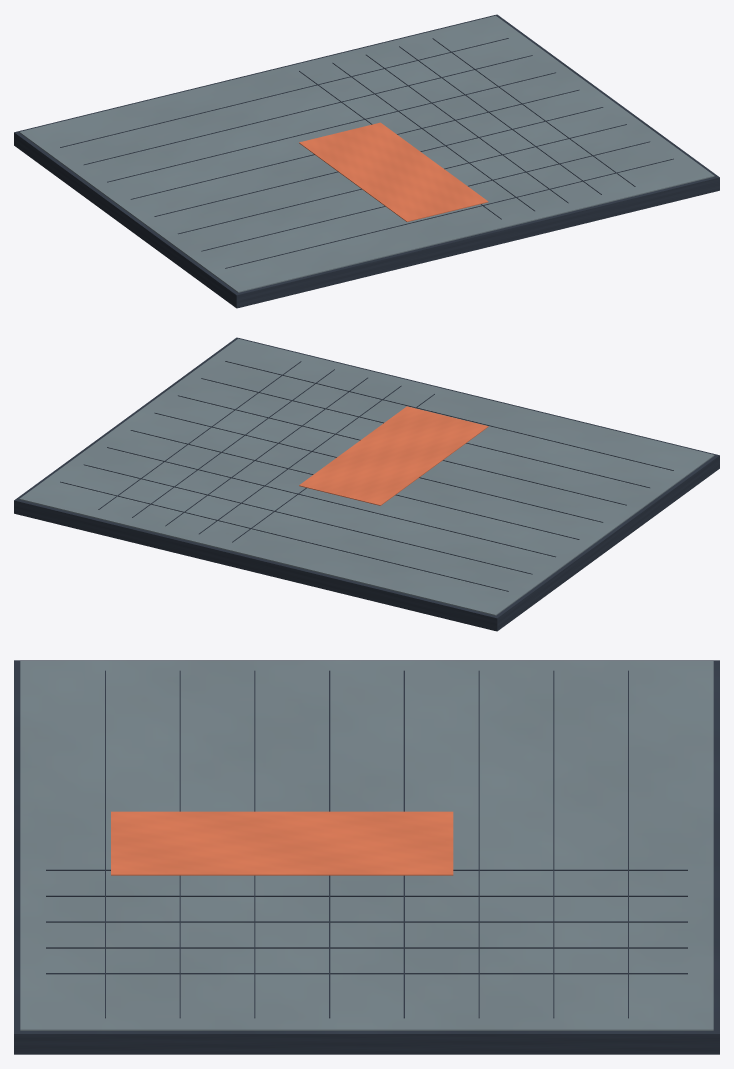
Rendered from atlas100-s026-a07.lod2.glb.
The picture shows the model from 3 angles, top to bottom: view 1: azimuth 30°, elevation 25°; view 2: azimuth 150°, elevation 25°; view 3: azimuth 270°, elevation 25°; orthographic projection. The views are drawn at different scales.
Parts seen in each view (by area): view 1: atlas100-s026-a07:part-001, atlas100-s026-a07:part-000, atlas100-s026-a07:part-021, atlas100-s026-a07:part-014, atlas100-s026-a07:part-013, atlas100-s026-a07:part-015, atlas100-s026-a07:part-020, atlas100-s026-a07:part-017, atlas100-s026-a07:part-019, atlas100-s026-a07:part-016, atlas100-s026-a07:part-018; view 2: atlas100-s026-a07:part-001, atlas100-s026-a07:part-000, atlas100-s026-a07:part-021, atlas100-s026-a07:part-014, atlas100-s026-a07:part-013, atlas100-s026-a07:part-020, atlas100-s026-a07:part-015, atlas100-s026-a07:part-016, atlas100-s026-a07:part-019, atlas100-s026-a07:part-017, atlas100-s026-a07:part-018; view 3: atlas100-s026-a07:part-001, atlas100-s026-a07:part-000, atlas100-s026-a07:part-021, atlas100-s026-a07:part-009, atlas100-s026-a07:part-010, atlas100-s026-a07:part-011, atlas100-s026-a07:part-012, atlas100-s026-a07:part-014, atlas100-s026-a07:part-015.
Boxes of the visible parts, left/top/right/bottom form: atlas100-s026-a07:part-001: left=19, top=15, right=714, bottom=292; atlas100-s026-a07:part-000: left=14, top=14, right=719, bottom=308; atlas100-s026-a07:part-021: left=299, top=122, right=488, bottom=221; atlas100-s026-a07:part-014: left=84, top=55, right=532, bottom=164; atlas100-s026-a07:part-013: left=60, top=38, right=508, bottom=147; atlas100-s026-a07:part-015: left=107, top=72, right=555, bottom=182; atlas100-s026-a07:part-020: left=225, top=158, right=673, bottom=268; atlas100-s026-a07:part-017: left=154, top=107, right=603, bottom=216; atlas100-s026-a07:part-019: left=201, top=141, right=650, bottom=251; atlas100-s026-a07:part-016: left=130, top=89, right=579, bottom=199; atlas100-s026-a07:part-018: left=178, top=124, right=626, bottom=234; atlas100-s026-a07:part-001: left=19, top=338, right=714, bottom=615; atlas100-s026-a07:part-000: left=14, top=337, right=719, bottom=631; atlas100-s026-a07:part-021: left=299, top=406, right=488, bottom=505; atlas100-s026-a07:part-014: left=83, top=464, right=532, bottom=574; atlas100-s026-a07:part-013: left=60, top=481, right=508, bottom=591; atlas100-s026-a07:part-020: left=225, top=361, right=673, bottom=470; atlas100-s026-a07:part-015: left=107, top=447, right=555, bottom=557; atlas100-s026-a07:part-016: left=130, top=430, right=579, bottom=539; atlas100-s026-a07:part-019: left=201, top=378, right=649, bottom=487; atlas100-s026-a07:part-017: left=154, top=412, right=603, bottom=522; atlas100-s026-a07:part-018: left=178, top=395, right=626, bottom=505; atlas100-s026-a07:part-001: left=20, top=661, right=713, bottom=1030; atlas100-s026-a07:part-000: left=14, top=660, right=719, bottom=1054; atlas100-s026-a07:part-021: left=111, top=811, right=453, bottom=875; atlas100-s026-a07:part-009: left=46, top=895, right=687, bottom=896; atlas100-s026-a07:part-010: left=46, top=921, right=687, bottom=922; atlas100-s026-a07:part-011: left=46, top=947, right=687, bottom=948; atlas100-s026-a07:part-012: left=46, top=973, right=687, bottom=974; atlas100-s026-a07:part-014: left=553, top=670, right=554, bottom=1018; atlas100-s026-a07:part-015: left=478, top=670, right=479, bottom=1018.
Bounding box in the file's own units: 13.02 × 0.404 × 10.4.
Materials: 3 (3 with a texture image).
